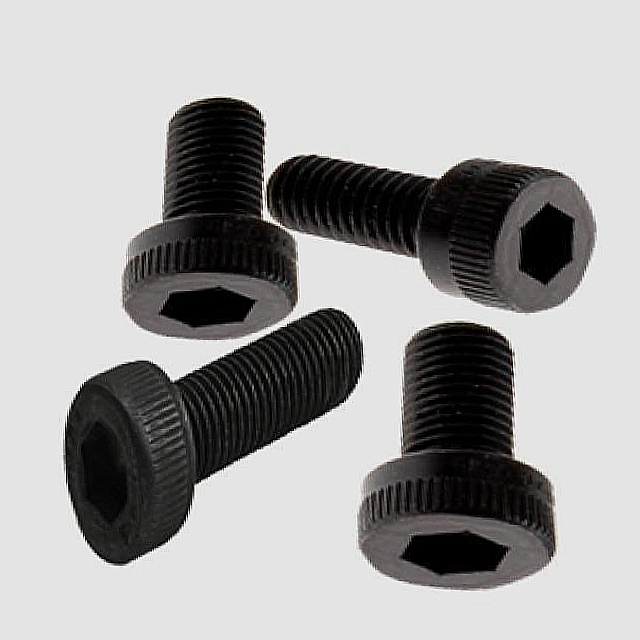allen: (62, 372, 194, 564), (464, 164, 604, 312), (361, 491, 555, 594), (121, 255, 296, 339)
